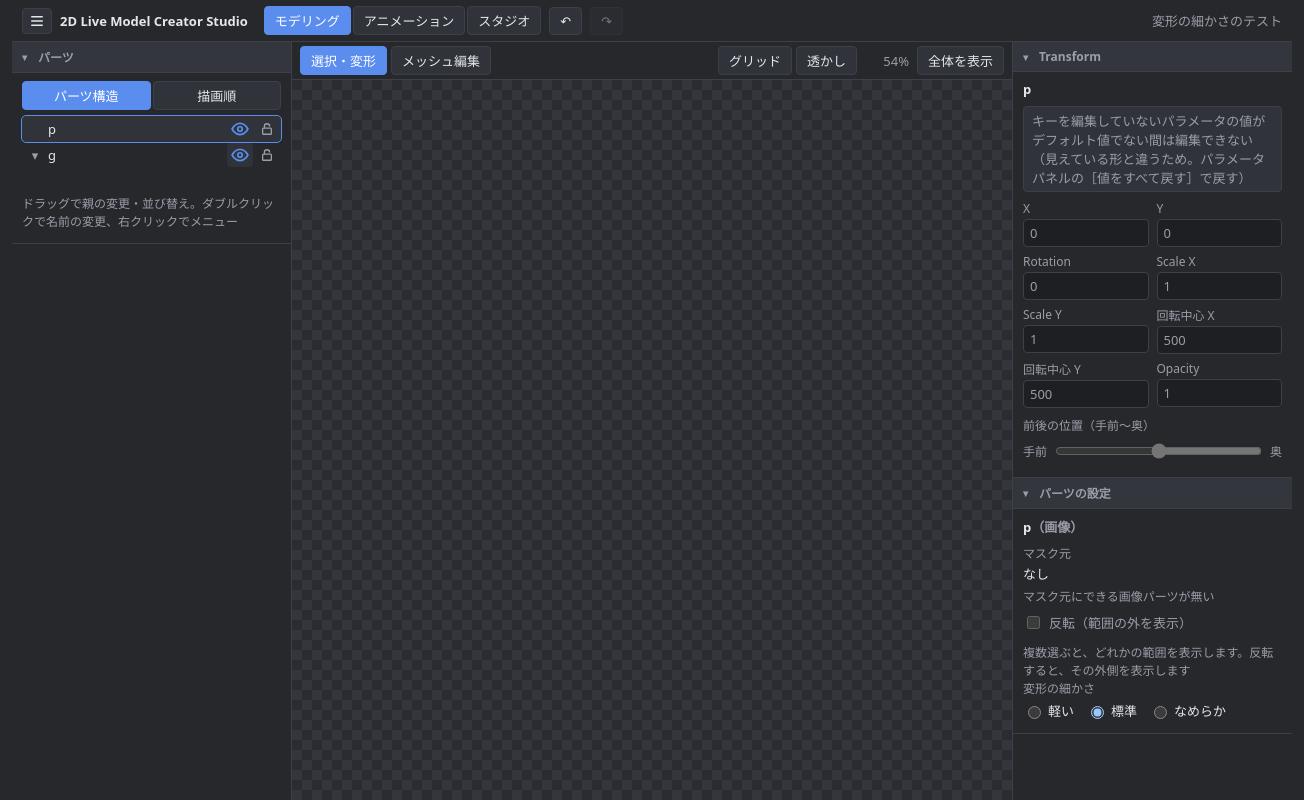
変形の細かさのセクション › 素材の画像が無ければ知らせて何もしない
The width and height of the screenshot is (1304, 800).
Click the radio button labelled "軽い" at (1034, 712), box [1028, 706, 1041, 718]
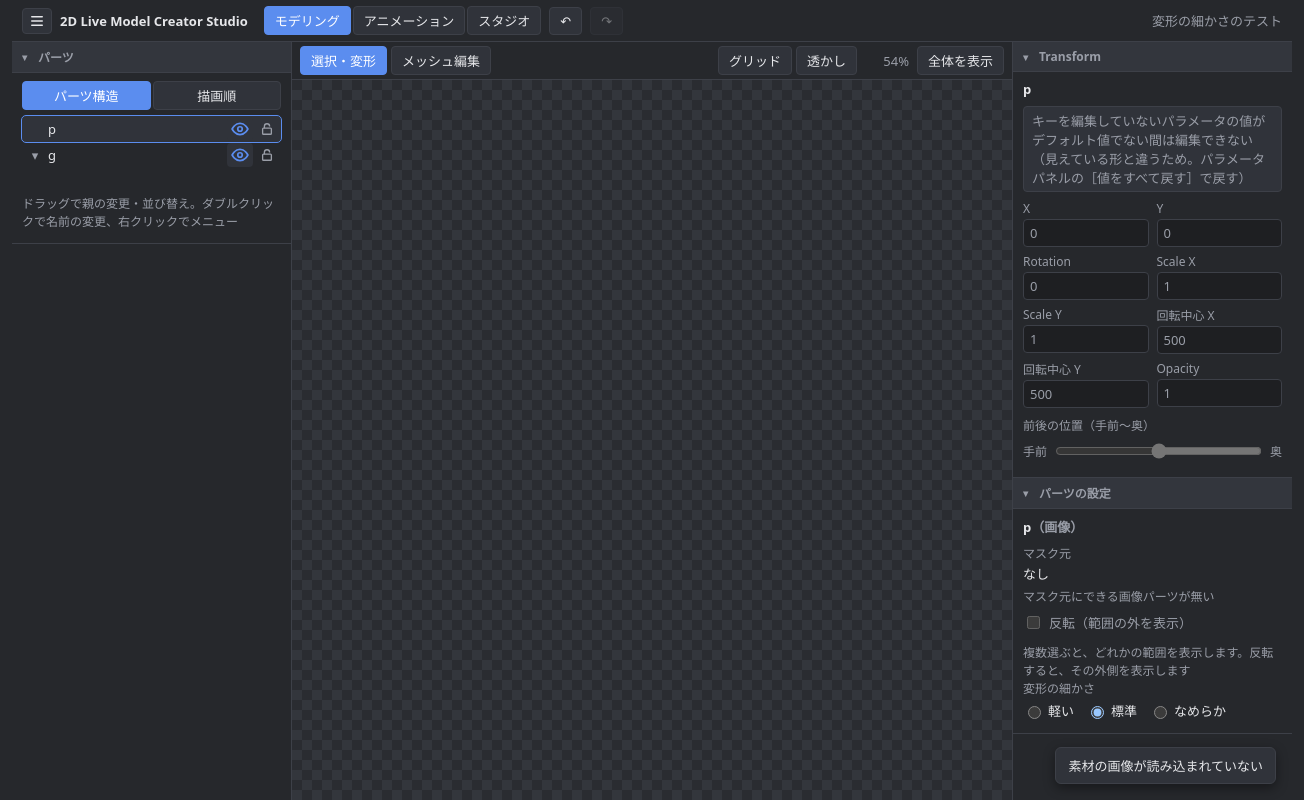
Check: the text "素材の画像が読み込まれていない" is shown, box [1055, 747, 1276, 784]
